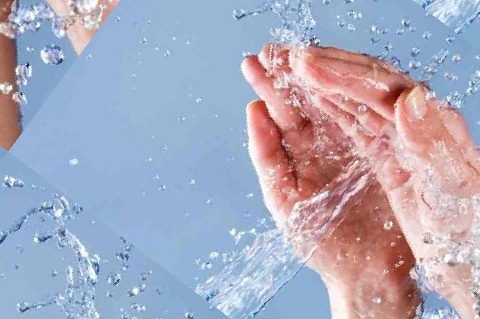washing hand: (79, 0, 479, 318)
